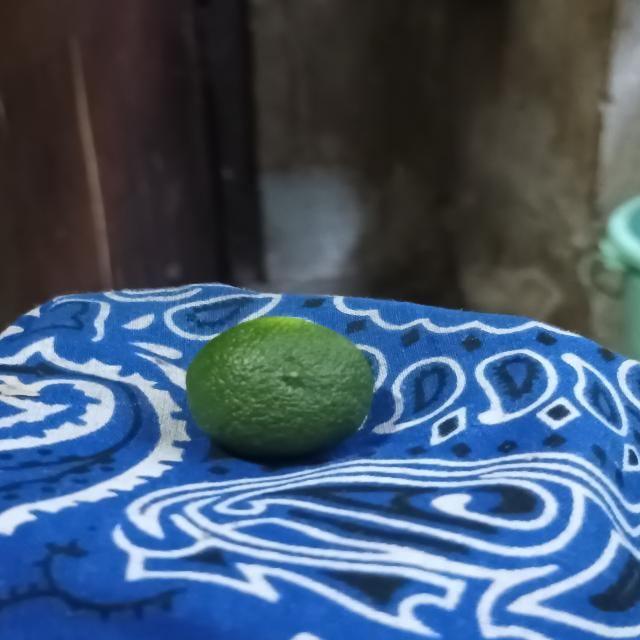heathy: (182, 318, 384, 467)
